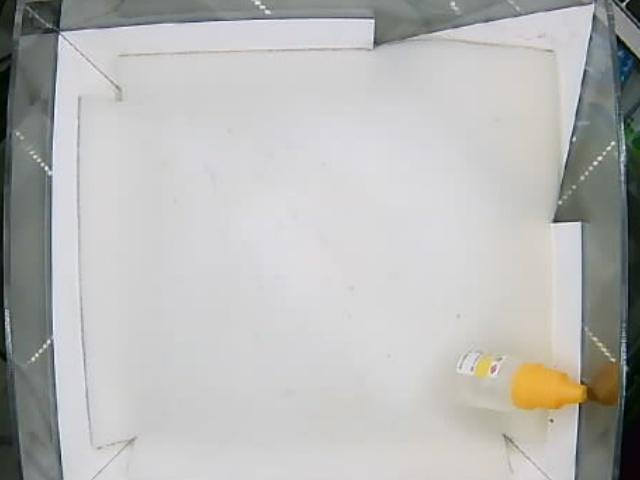Bottle: (456, 348, 587, 416)
